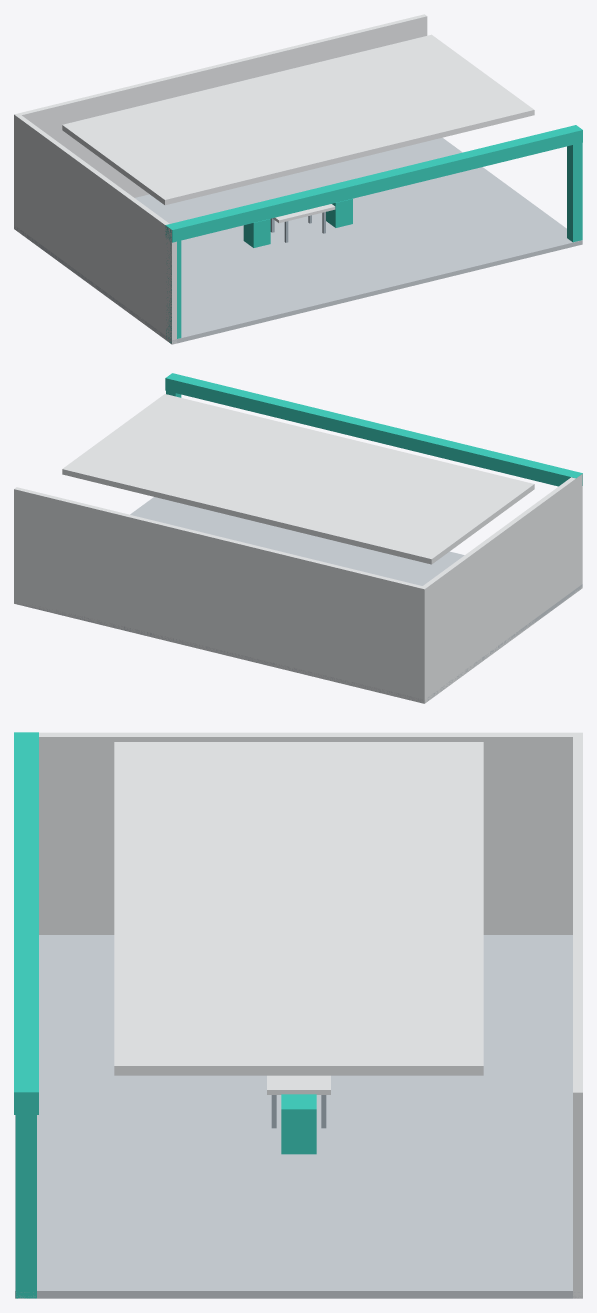
3 renders of one model, top to bottom at view 1: azimuth 30°, elevation 25°; view 2: azimuth 150°, elevation 25°; view 3: azimuth 270°, elevation 25°, orthographic. The views are drawn at different scales.
Visible parts, largest first — view 1: Exhibition Booth Concept; view 2: Exhibition Booth Concept; view 3: Exhibition Booth Concept.
Boxes of the visible parts, <box> form: Exhibition Booth Concept: <box>14,14,582,344</box>; Exhibition Booth Concept: <box>14,373,582,703</box>; Exhibition Booth Concept: <box>14,732,582,1298</box>.
Bounding box in the file's own units: 12 × 3.34 × 8.01.
